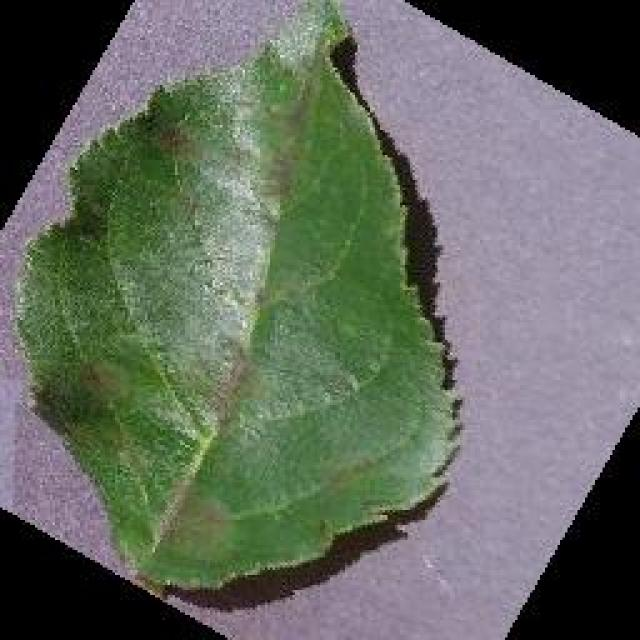apple scab disease: (10, 0, 465, 598)
